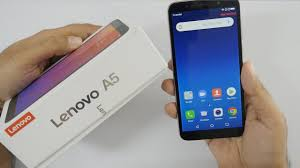lenovo: (166, 1, 249, 142)
